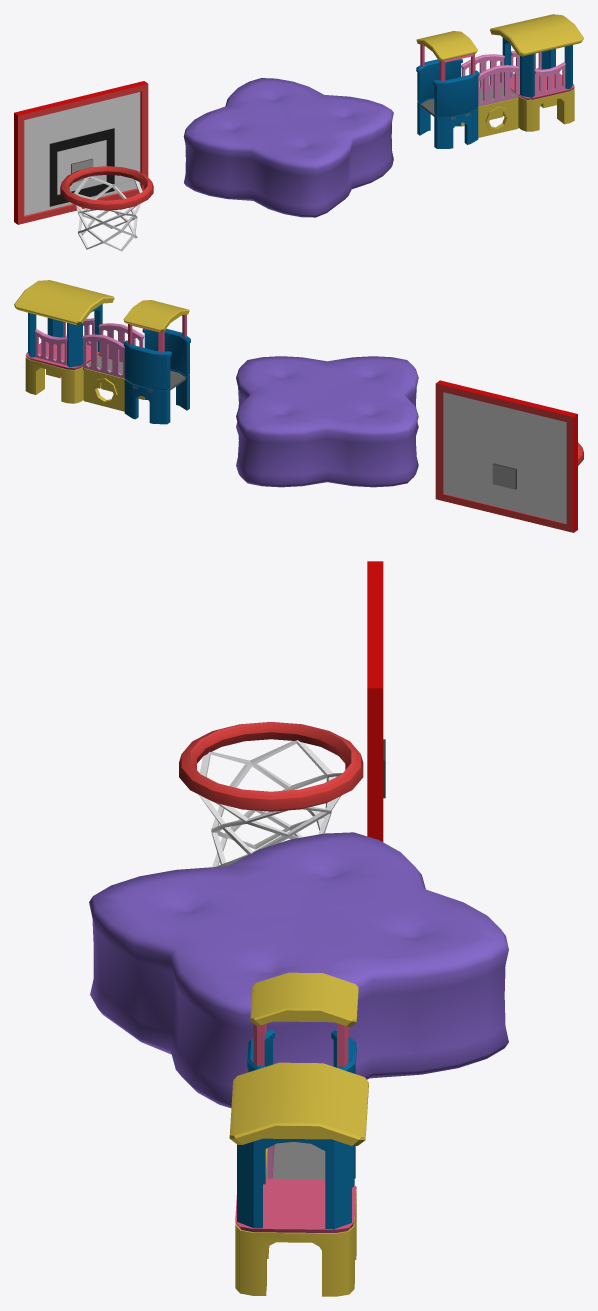
File: Basketball net .fbx
3 views of the same model, one above another, from view 1: azimuth 30°, elevation 25°; view 2: azimuth 150°, elevation 25°; view 3: azimuth 270°, elevation 25° (orthographic). The views are drawn at different scales.
Visible parts, largest first — view 1: flower sofa, Basketball net, Toy House; view 2: flower sofa, Basketball net, Toy House; view 3: flower sofa, Toy House, Basketball net.
Part boxes in pixels (x1=…): flower sofa: x1=183, y1=78, x2=393, y2=217; Basketball net: x1=14, y1=81, x2=153, y2=251; Toy House: x1=416, y1=14, x2=583, y2=148; flower sofa: x1=236, y1=356, x2=418, y2=487; Basketball net: x1=435, y1=380, x2=583, y2=532; Toy House: x1=14, y1=280, x2=190, y2=424; flower sofa: x1=89, y1=832, x2=508, y2=1107; Toy House: x1=229, y1=972, x2=368, y2=1296; Basketball net: x1=179, y1=561, x2=385, y2=867.
Bounding box in the file's own units: 365 × 80.61 × 124.
1 material, 1 textured.
